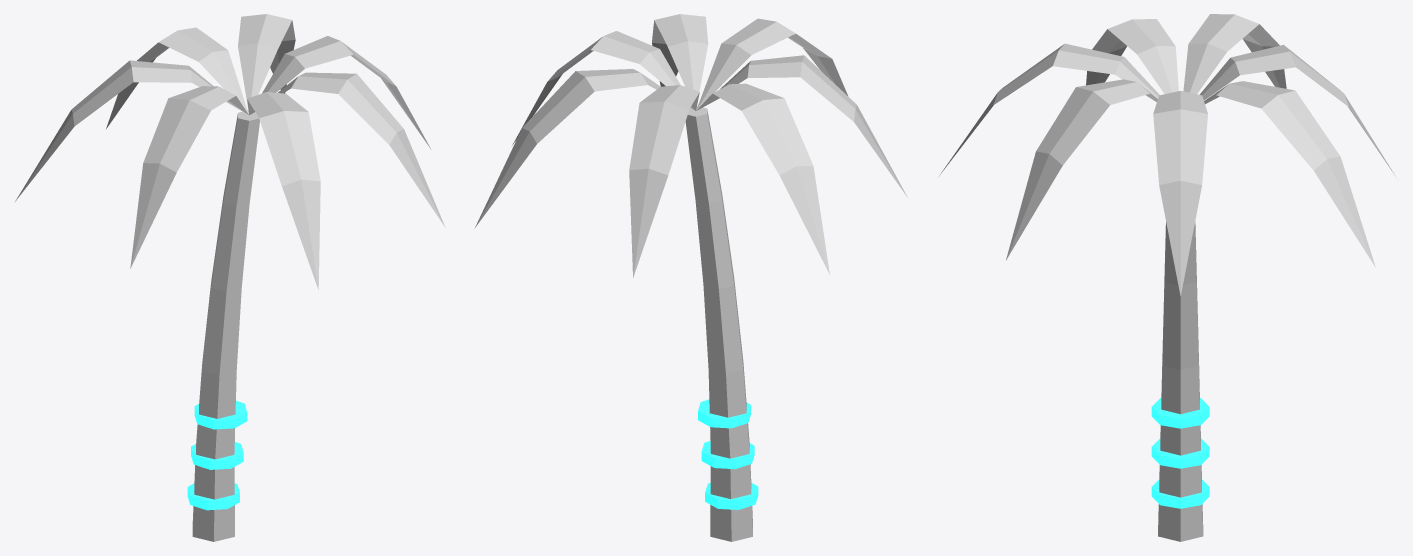
The picture shows the model from 3 angles, left to right: view 1: azimuth 30°, elevation 25°; view 2: azimuth 150°, elevation 25°; view 3: azimuth 270°, elevation 25°; orthographic projection. The views are drawn at different scales.
Visible parts, largest first — view 1: Neon_CyberPalm_Simple; view 2: Neon_CyberPalm_Simple; view 3: Neon_CyberPalm_Simple.
Boxes of the visible parts, x1,y1,x2,y2 form: Neon_CyberPalm_Simple: (15, 14, 445, 541); Neon_CyberPalm_Simple: (474, 14, 907, 541); Neon_CyberPalm_Simple: (939, 14, 1396, 541).
Size of the model in its own units: 3.11 by 3.72 by 3.2.
